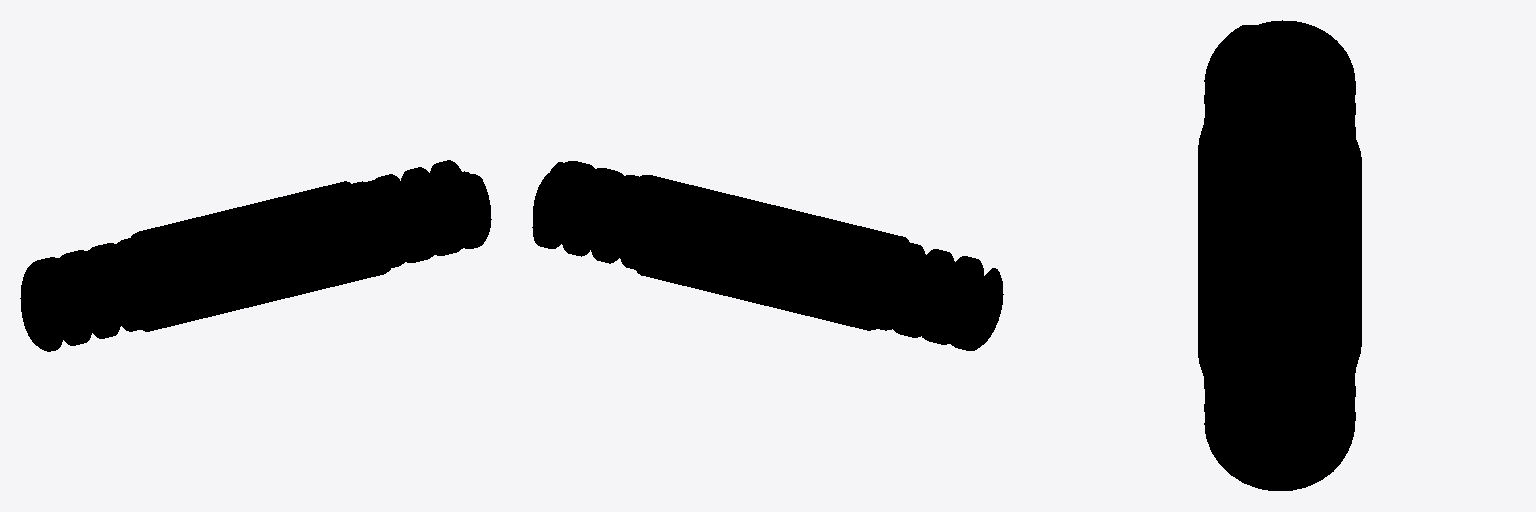
URDF robot description (peg_screw):
<?xml version="1.0" ?>
<robot name="peg_screw">
  <link name="baseLink">
    <contact>
      <lateral_friction value="1.0"/>
      <rolling_friction value="0.0"/>
      <contact_cfm value="0.0"/>
      <contact_erp value="1.0"/>
    </contact>
    <inertial>
      <origin rpy="0 0 0" xyz="0.0 -0.000044 -0.000014"/>
       <mass value="0.005"/>
       <inertia ixx="0.00000008" ixy="0" ixz="0" iyy="0.000001268" iyz="0" izz="0.000001268"/>
    </inertial>
    <visual>
      <origin rpy="0 0 0" xyz="0.0 -0.000044 -0.000014"/>
      <geometry>
        <mesh filename="../obj/peg_screw.obj" scale=".001 .001 .001"/>
      </geometry>
       <material name="black">
        <color rgba="0 0 0 1"/>
      </material>
    </visual>
    <collision concave="yes">
      <origin rpy="0 0 0" xyz="0.0 -0.000044 -0.000014"/>
      <geometry>
	 	<mesh filename="../obj/peg_screw.obj" scale=".001 .001 .001"/>
      </geometry>
    </collision>
  </link>
</robot>

--- Render facts (derived) ---
3 views of the same robot in one strip: view 1: azimuth 30°, elevation 25°; view 2: azimuth 150°, elevation 25°; view 3: azimuth 270°, elevation 25° (orthographic).
Robot: peg_screw — 1 links, 0 joints (none); root link baseLink; default pose: every joint at zero.
Links seen in each view (by area): view 1: baseLink; view 2: baseLink; view 3: baseLink.
Link boxes in pixels (x1=…): baseLink: x1=20, y1=160, x2=491, y2=351; baseLink: x1=532, y1=161, x2=1003, y2=350; baseLink: x1=1198, y1=20, x2=1361, y2=490.
Bounding box of the posed robot: 0.06 × 0.012 × 0.012 m (x, y, z).
1 mesh visuals loaded from 1 distinct referenced files (1 OBJ).
